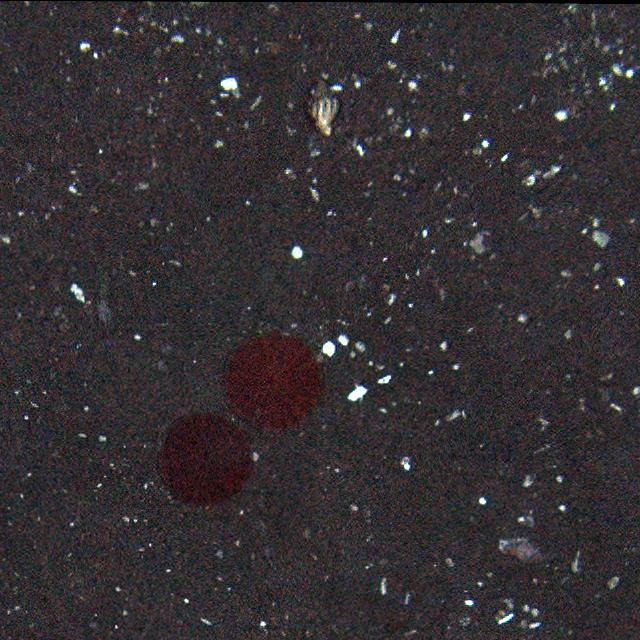whelk: (302, 77, 342, 137)
